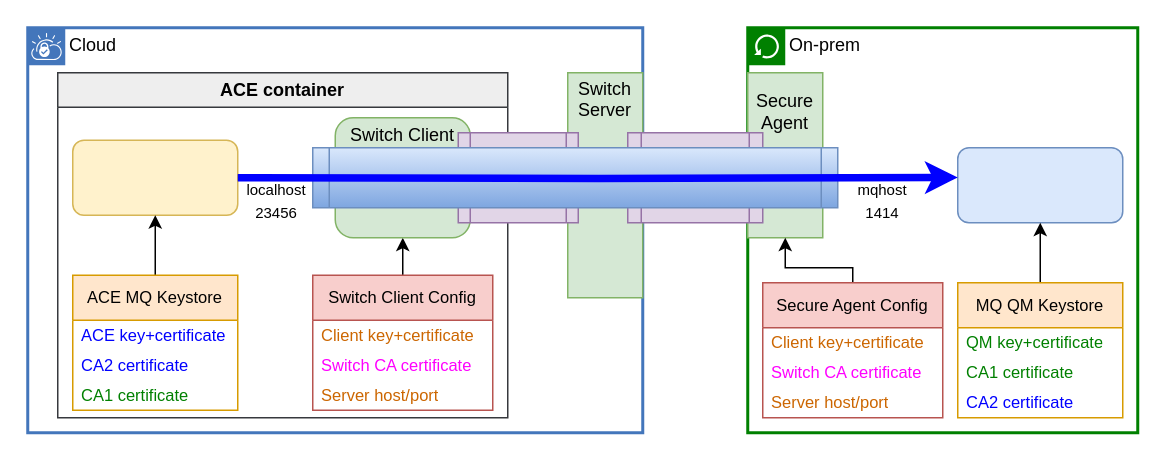
Image size: 1164x459. Some labels were removed from this diagram. The shapes that lost their labels are listed below. From the top down, each one's centre as x and y in pixels, then its label:
(154,177): App using MQ
(574,177): Tunnel
(1039,184): MQ queue manager
